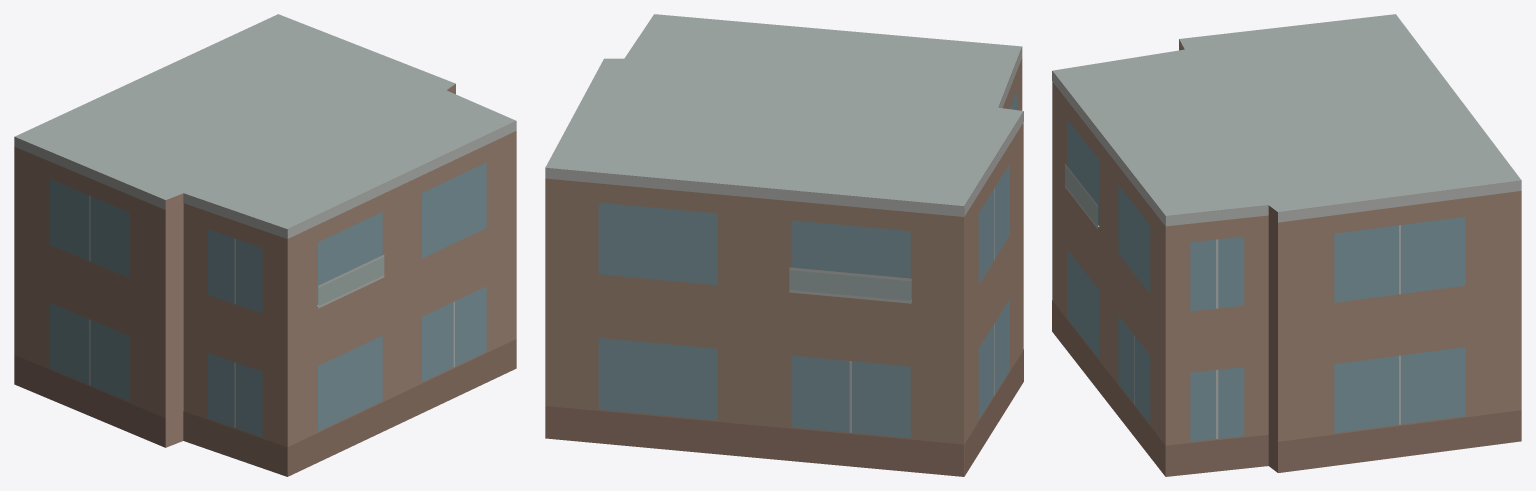
Rendered from survey-upis-32624687.glb.
3 renders of one model, left to right at view 1: azimuth 30°, elevation 25°; view 2: azimuth 150°, elevation 25°; view 3: azimuth 270°, elevation 25°, orthographic. The views are drawn at different scales.
Parts seen in each view (by area): view 1: survey-upis-32624687.tmp; view 2: survey-upis-32624687.tmp; view 3: survey-upis-32624687.tmp.
Boxes of the visible parts, <box> form: survey-upis-32624687.tmp: <box>14,14,516,476</box>; survey-upis-32624687.tmp: <box>545,14,1023,476</box>; survey-upis-32624687.tmp: <box>1052,14,1521,476</box>.
Size of the model in its own units: 10.14 by 6.1 by 9.96.
